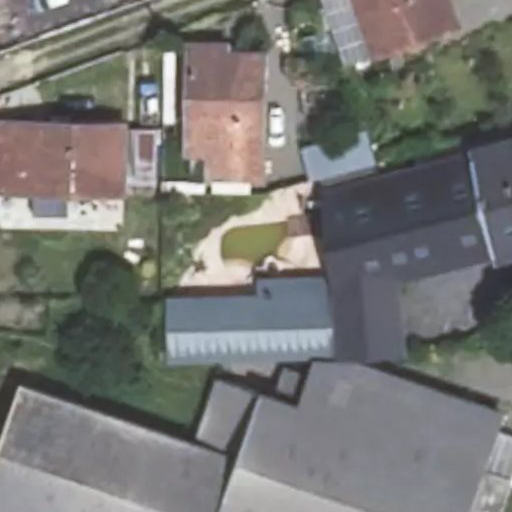pool: (217, 222, 295, 263)
